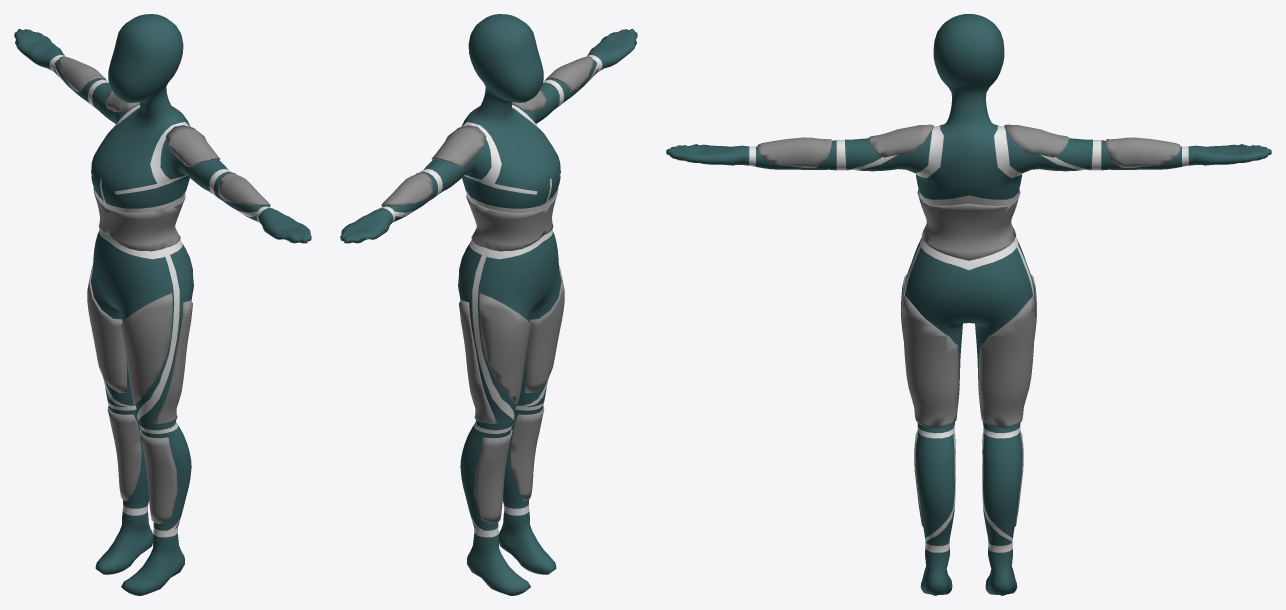
Rendered from 3CJustTheModelNoAnimations.fbx.
The picture shows the model from 3 angles, left to right: view 1: azimuth 30°, elevation 25°; view 2: azimuth 150°, elevation 25°; view 3: azimuth 270°, elevation 25°; orthographic projection. The views are drawn at different scales.
Visible parts, largest first — view 1: RetopoFlow, RetopoFlow.002; view 2: RetopoFlow, RetopoFlow.002; view 3: RetopoFlow, RetopoFlow.002.
Boxes of the visible parts, bbox=[...] form: RetopoFlow: bbox=[14, 14, 311, 595]; RetopoFlow.002: bbox=[58, 56, 270, 523]; RetopoFlow: bbox=[340, 14, 637, 595]; RetopoFlow.002: bbox=[381, 56, 593, 523]; RetopoFlow: bbox=[666, 14, 1271, 595]; RetopoFlow.002: bbox=[757, 124, 1180, 526].
Bounding box in the file's own units: 231 × 39.67 × 246.
